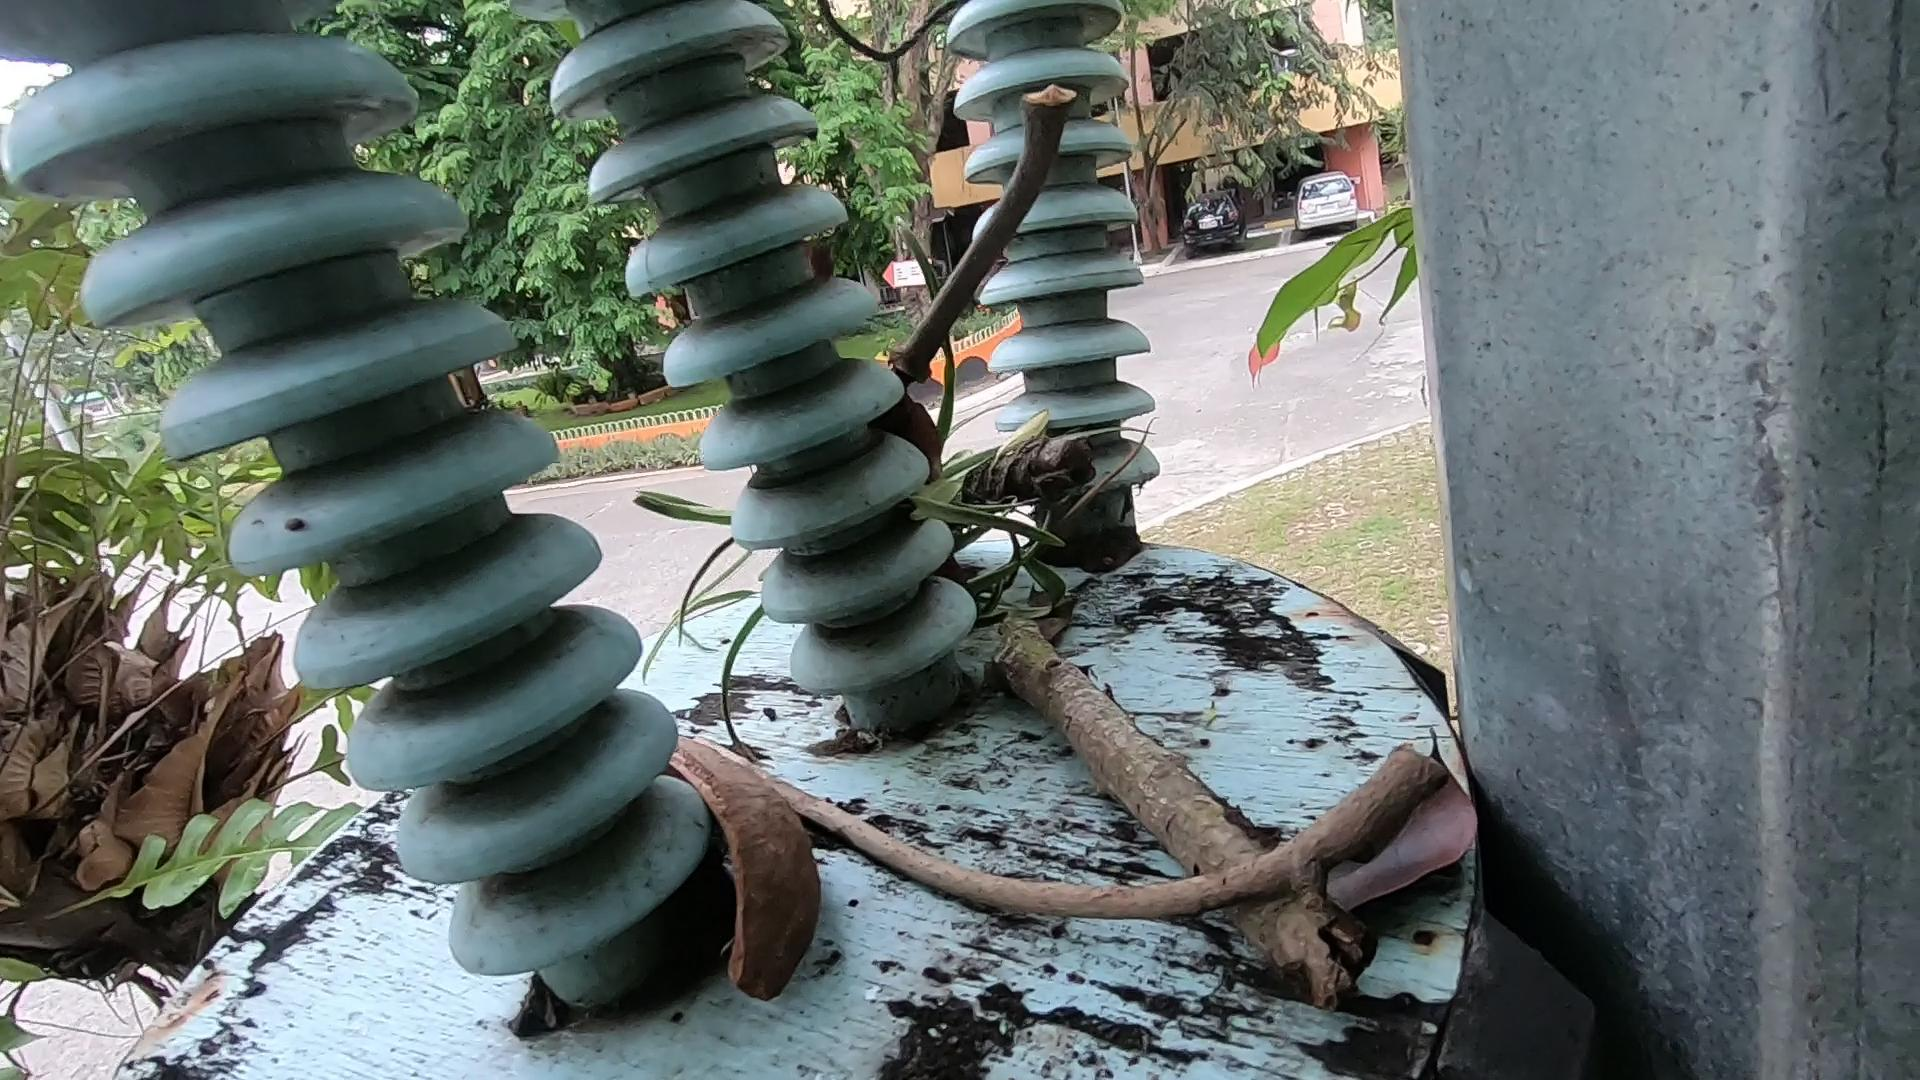branch with leaves: (825, 433, 1449, 998)
leaf: (1327, 727, 1468, 919)
mahogany fruit: (628, 684, 828, 980)
tree branch: (684, 736, 1396, 923), (899, 44, 1091, 371)
